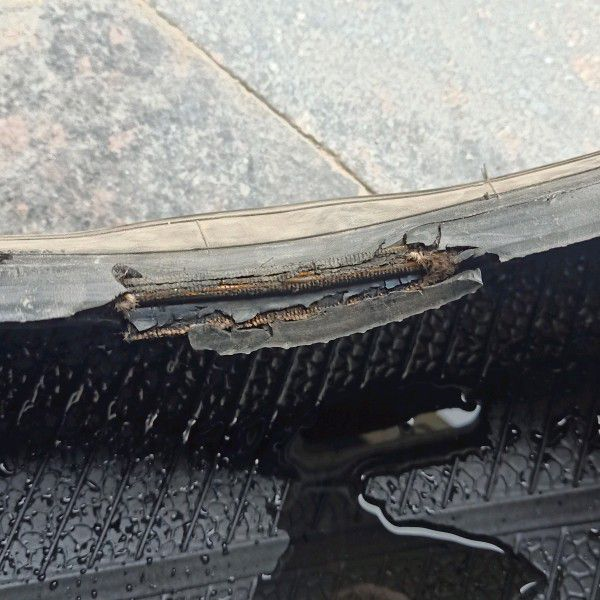bead_damage: (32, 193, 506, 358)
